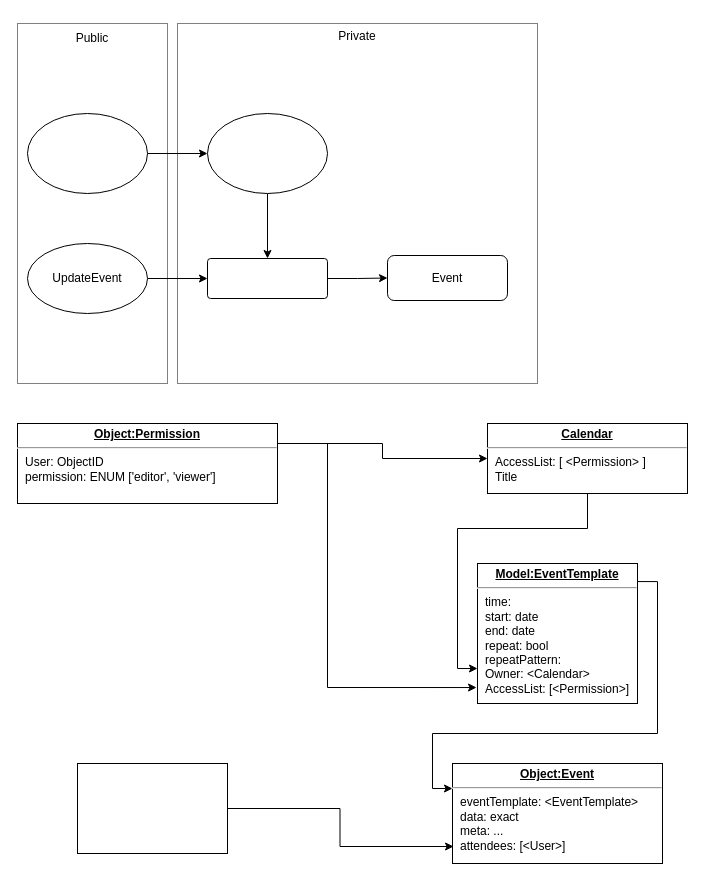
Some shapes in this 705 by 881 pixel diagram are drawn without their labels. The shapes that lost their labels are listed below. From the top down, each one's box as (x1, y1, x2, y2) in pixels, then its label:
(26, 112, 148, 194): Create Event
(206, 112, 328, 194): Create template
(206, 258, 328, 298): EventTemplate
(76, 762, 228, 854): Object:User ...
